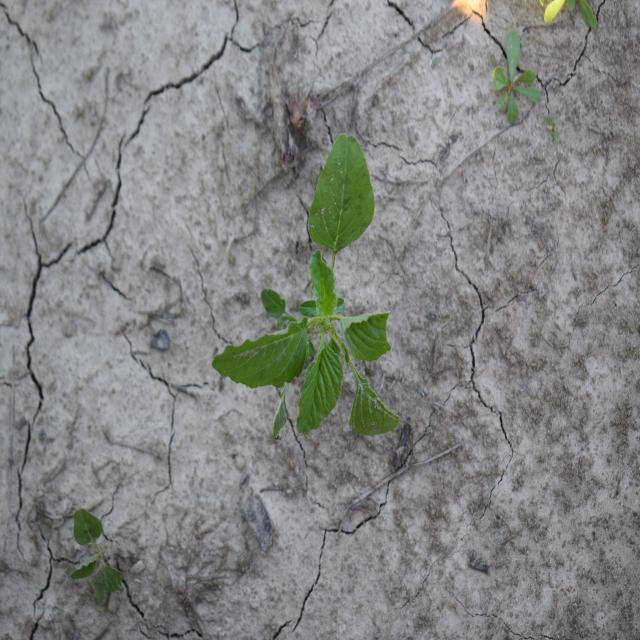Carpetweed: (492, 29, 543, 127)
PalmerAmaranth: (211, 132, 401, 440), (68, 509, 128, 609)
